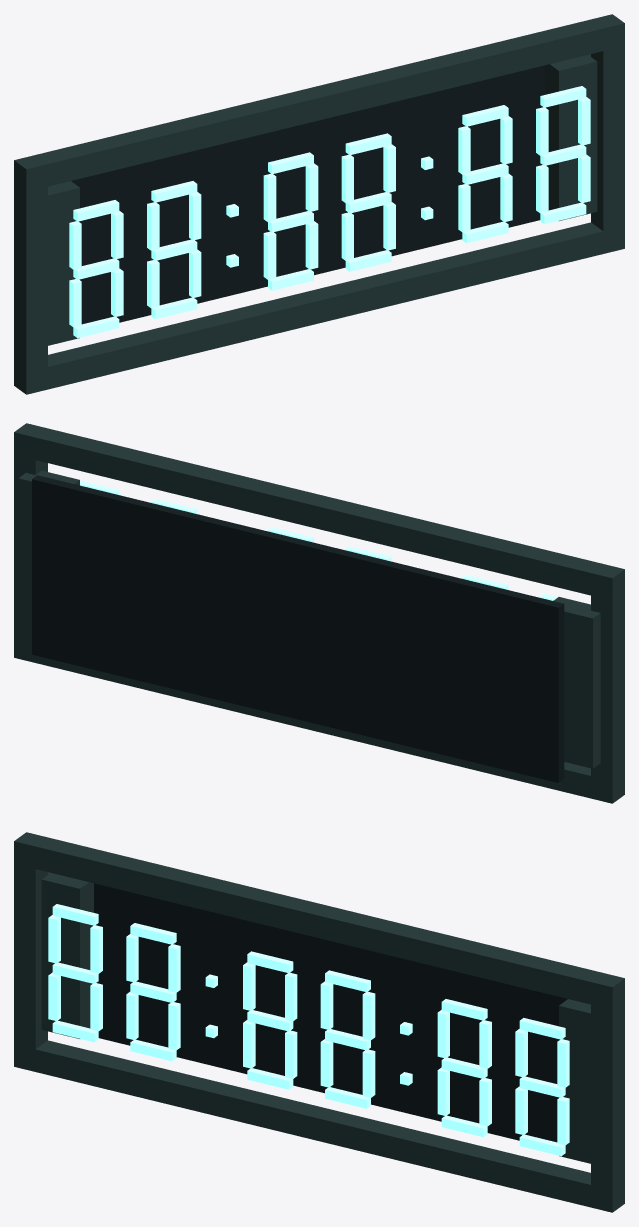
3 renders of one model, top to bottom at view 1: azimuth 30°, elevation 25°; view 2: azimuth 150°, elevation 25°; view 3: azimuth 330°, elevation 25°, orthographic.
Parts seen in each view (by area): view 1: digital-display-back, digital-frame-top, digital-frame-bottom, digital-frame-left, digital-bracket-right, digital-frame-right, digital-bracket-left, clock-digit-3-f, clock-digit-3-e, clock-digit-3-b, clock-digit-3-c, clock-digit-2-a (+37 smaller); view 2: digital-display-back, digital-frame-top, digital-frame-bottom, digital-bracket-left, digital-frame-left, digital-bracket-right, digital-frame-right; view 3: digital-display-back, digital-frame-top, digital-frame-bottom, digital-frame-right, digital-bracket-left, digital-frame-left, digital-bracket-right, clock-digit-4-b, clock-digit-4-c, clock-digit-4-f, clock-digit-4-e, clock-digit-5-a (+37 smaller).
Part boxes in pixels (left/top/right/bottom): digital-display-back: left=71, top=65, right=544, bottom=324; digital-frame-top: left=14, top=14, right=624, bottom=191; digital-frame-bottom: left=14, top=222, right=624, bottom=394; digital-frame-left: left=14, top=183, right=47, bottom=372; digital-bracket-right: left=545, top=54, right=597, bottom=220; digital-frame-right: left=591, top=46, right=624, bottom=231; digital-bracket-left: left=48, top=181, right=79, bottom=345; clock-digit-3-f: left=263, top=173, right=276, bottom=222; clock-digit-3-e: left=263, top=231, right=276, bottom=279; clock-digit-3-b: left=305, top=163, right=318, bottom=211; clock-digit-3-c: left=305, top=221, right=318, bottom=269; clock-digit-2-a: left=151, top=181, right=197, bottom=202; digital-display-back: left=32, top=475, right=564, bottom=782; digital-frame-top: left=14, top=423, right=624, bottom=600; digital-frame-bottom: left=14, top=635, right=624, bottom=803; digital-bracket-left: left=553, top=597, right=600, bottom=768; digital-frame-left: left=591, top=592, right=624, bottom=781; digital-bracket-right: left=18, top=470, right=79, bottom=631; digital-frame-right: left=14, top=455, right=47, bottom=639; digital-display-back: left=94, top=883, right=567, bottom=1142; digital-frame-top: left=14, top=832, right=624, bottom=1009; digital-frame-bottom: left=14, top=1040, right=624, bottom=1212; digital-frame-right: left=591, top=1001, right=624, bottom=1190; digital-bracket-left: left=41, top=872, right=93, bottom=1038; digital-frame-left: left=14, top=864, right=47, bottom=1049; digital-bracket-right: left=559, top=999, right=590, bottom=1163; clock-digit-4-b: left=362, top=991, right=375, bottom=1040; clock-digit-4-c: left=362, top=1049, right=375, bottom=1097; clock-digit-4-f: left=320, top=981, right=333, bottom=1029; clock-digit-4-e: left=320, top=1039, right=333, bottom=1087; clock-digit-5-a: left=441, top=999, right=487, bottom=1020.
Size of the model in its own units: 0.5 by 0.18 by 0.053.
